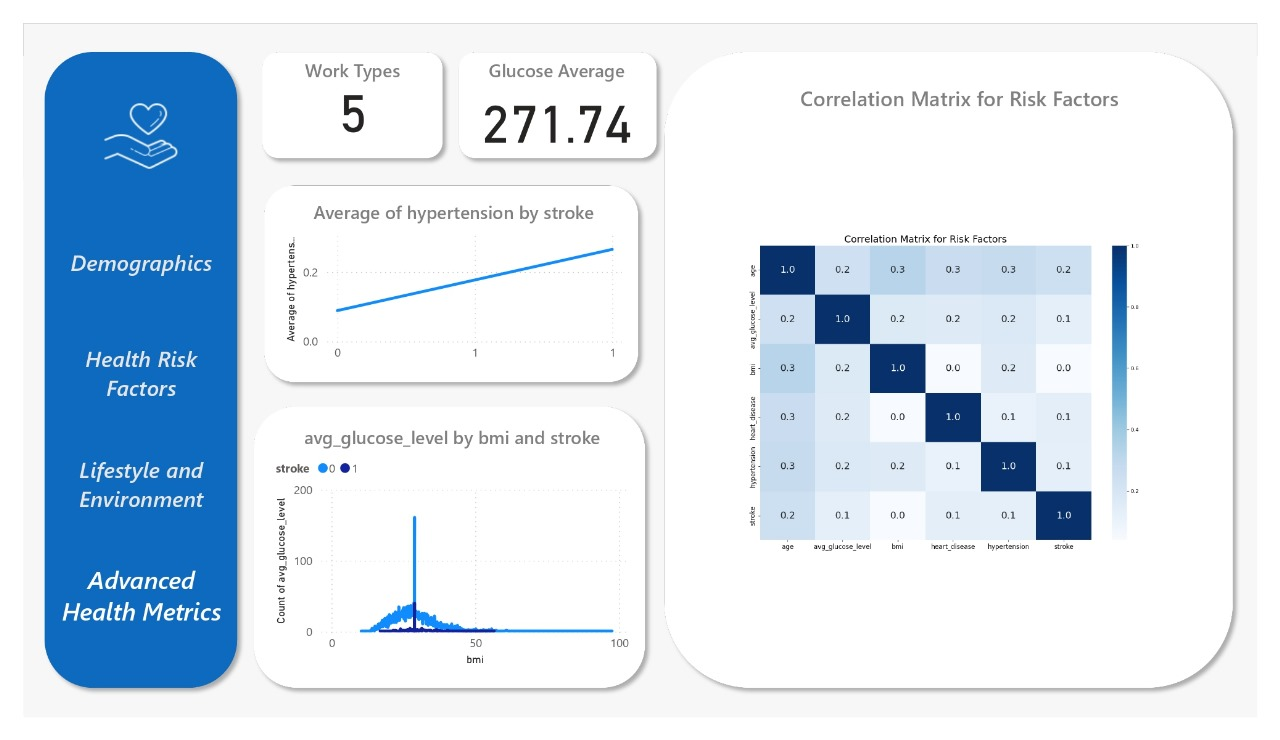

What the dashboard file says about the page in this screenshot:
{"tool":"powerbi","page":{"name":"Advanced Health Metrics","canvas":[1280,720],"ordinal":3},"visuals":[{"type":"shape","box":[12.9,21.4,218.6,677.1],"z":0},{"type":"pageNavigator","box":[37.1,210,171.4,420],"z":1000},{"type":"image","box":[64.3,62.9,115.7,107.1],"z":2000},{"type":"shape","box":[230,388.6,424.3,310],"z":3000},{"type":"shape","box":[655.7,21.4,608.6,677.1],"z":4000},{"type":"pythonVisual","title":"Correlation Matrix for Risk Factors","fields":{"Values":["healthcare-dataset-stroke-data.age","healthcare-dataset-stroke-data.avg_glucose_level","healthcare-dataset-stroke-data.bmi","healthcare-dataset-stroke-data.heart_disease","healthcare-dataset-stroke-data.hypertension","healthcare-dataset-stroke-data.stroke"]},"box":[688.6,62.9,565.7,608.6],"z":5000},{"type":"shape","box":[241.4,158.6,405.7,222.9],"z":6000},{"type":"shape","box":[442.9,21.4,222.9,127.1],"z":7000},{"type":"shape","box":[238.6,21.4,205.7,127.1],"z":8000},{"type":"card","title":"Glucose Average","fields":{"Values":["Max(healthcare-dataset-stroke-data.avg_glucose_level)"]},"box":[455.7,35.7,195.7,98.6],"z":9000},{"type":"card","title":"Work Types","fields":{"Values":["Count(healthcare-dataset-stroke-data.work_type)"]},"box":[267.1,35.7,148.6,98.6],"z":10000},{"type":"lineChart","title":"avg_glucose_level by bmi and stroke","fields":{"Category":["healthcare-dataset-stroke-data.bmi"],"Y":["CountNonNull(healthcare-dataset-stroke-data.avg_glucose_level)"],"Series":["healthcare-dataset-stroke-data.stroke"]},"box":[257.1,417.1,375.7,254.3],"z":11000},{"type":"lineChart","fields":{"Category":["healthcare-dataset-stroke-data.stroke"],"Y":["Avg(healthcare-dataset-stroke-data.hypertension)"]},"box":[267.1,182.9,358.6,177.1],"z":12000}]}

Visuals, with their boxes in screenshot pixels (x1, y1, x2, y2), scaled from the page's 1280x720 canvas onto the 1280x740 screenshot:
shape: locate(13, 22, 232, 718)
pageNavigator: locate(37, 216, 208, 647)
image: locate(64, 65, 180, 175)
shape: locate(230, 399, 654, 718)
shape: locate(656, 22, 1264, 718)
"Correlation Matrix for Risk Factors" pythonVisual: locate(689, 65, 1254, 690)
shape: locate(241, 163, 647, 392)
shape: locate(443, 22, 666, 153)
shape: locate(239, 22, 444, 153)
"Glucose Average" card: locate(456, 37, 651, 138)
"Work Types" card: locate(267, 37, 416, 138)
"avg_glucose_level by bmi and stroke" lineChart: locate(257, 429, 633, 690)
lineChart - healthcare-dataset-stroke-data.stroke x Avg(healthcare-dataset-stroke-data.hypertension): locate(267, 188, 626, 370)
